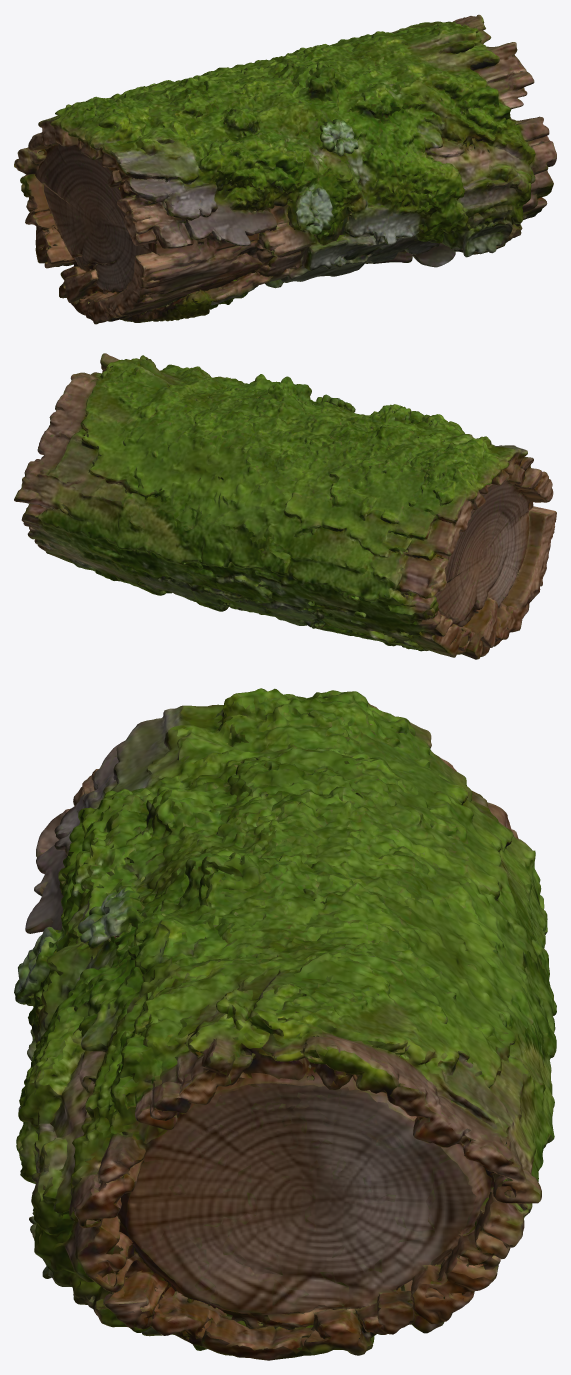
File: r10-mossy-fallen-log.glb
The picture shows the model from 3 angles, top to bottom: view 1: azimuth 30°, elevation 25°; view 2: azimuth 150°, elevation 25°; view 3: azimuth 270°, elevation 25°; orthographic projection. The views are drawn at different scales.
Parts seen in each view (by area): view 1: geometry_0; view 2: geometry_0; view 3: geometry_0.
Boxes of the visible parts, x1=… form: geometry_0: x1=14, y1=14, x2=556, y2=324; geometry_0: x1=14, y1=353, x2=556, y2=659; geometry_0: x1=14, y1=688, x2=556, y2=1360.
Bounding box in the file's own units: 19660 × 9346 × 12145.
1 material, 1 textured.
